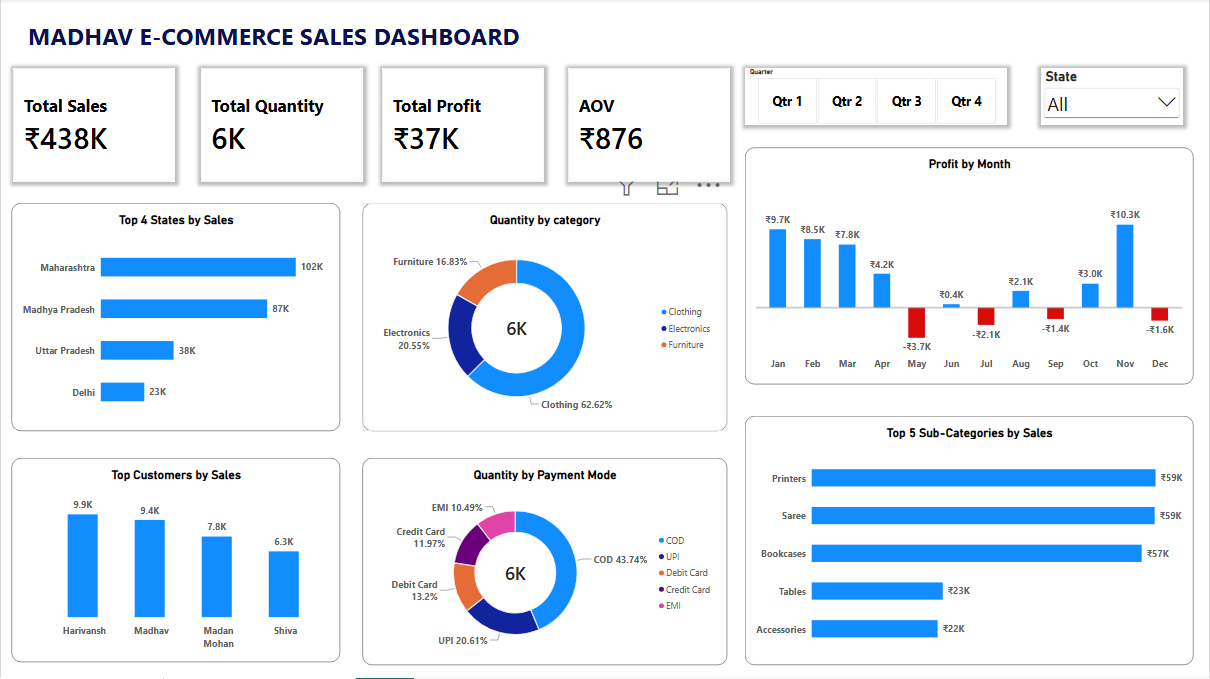

The page's visual inventory and layout, read from the dashboard file:
{"tool":"powerbi","page":{"name":"Executive Summary","canvas":[1920,1080],"ordinal":0},"visuals":[{"type":"textbox","box":[42.9,33.4,858.9,76.3],"z":0},{"type":"columnChart","title":"Profit by Month","fields":{"Category":["Calendar.Month"],"Y":["Sum(Details.Profit)"]},"box":[1183.4,236.2,713.4,377],"z":1000},{"type":"barChart","title":"Top 5 Sub-Categories by Sales","fields":{"Category":["Details.Sub-Category"],"Y":["Details.Total Sales"]},"box":[1183.4,663.3,713.4,396.1],"z":2000},{"type":"donutChart","title":"Quantity by Payment Mode","fields":{"Category":["Details.PaymentMode"],"Y":["Sum(Details.Quantity)"]},"box":[575,730.1,579.8,329.3],"z":3000},{"type":"donutChart","title":"Quantity by category","fields":{"Category":["Details.Category"],"Y":["Sum(Details.Quantity)"]},"box":[575,324.5,579.8,362.7],"z":4000},{"type":"cardVisual","fields":{"Data":["Details.Total Sales"]},"box":[19.1,109.8,257.7,181.3],"z":5000},{"type":"cardVisual","fields":{"Data":["Details.Total Quantity"]},"box":[317.4,109.8,257.7,181.3],"z":6000},{"type":"cardVisual","fields":{"Data":["Details.Total Profit"]},"box":[606.1,109.8,257.7,181.3],"z":7000},{"type":"cardVisual","fields":{"Data":["Details.AOV"]},"box":[902,109.8,257.7,181.3],"z":8000},{"type":"barChart","title":"Top 4 States by Sales","fields":{"Category":["Orders.State"],"Y":["Sum(Details.Amount)"]},"box":[16.7,324.5,522.5,362.7],"z":9000},{"type":"columnChart","title":"Top Customers by Sales","fields":{"Category":["Orders.CustomerName"],"Y":["Sum(Details.Amount)"]},"box":[16.7,730.1,522.5,324.5],"z":10000},{"type":"slicer","fields":{"Values":["Calendar.Quarter"]},"box":[1183.4,109.8,417.5,90.7],"z":11000},{"type":"slicer","fields":{"Values":["Orders.State"]},"box":[1653.4,109.8,226.7,90.7],"z":12000}]}

Visuals, with their boxes in screenshot pixels (x1, y1, x2, y2), scaled from the page's 1920x1080 canvas onto the 1210x679 screenshot:
textbox: x1=27 y1=21 x2=568 y2=69
"Profit by Month" columnChart: x1=746 y1=148 x2=1195 y2=386
"Top 5 Sub-Categories by Sales" barChart: x1=746 y1=417 x2=1195 y2=666
"Quantity by Payment Mode" donutChart: x1=362 y1=459 x2=728 y2=666
"Quantity by category" donutChart: x1=362 y1=204 x2=728 y2=432
cardVisual - Details.Total Sales: x1=12 y1=69 x2=174 y2=183
cardVisual - Details.Total Quantity: x1=200 y1=69 x2=362 y2=183
cardVisual - Details.Total Profit: x1=382 y1=69 x2=544 y2=183
cardVisual - Details.AOV: x1=568 y1=69 x2=731 y2=183
"Top 4 States by Sales" barChart: x1=11 y1=204 x2=340 y2=432
"Top Customers by Sales" columnChart: x1=11 y1=459 x2=340 y2=663
slicer - Calendar.Quarter: x1=746 y1=69 x2=1009 y2=126
slicer - Orders.State: x1=1042 y1=69 x2=1185 y2=126
